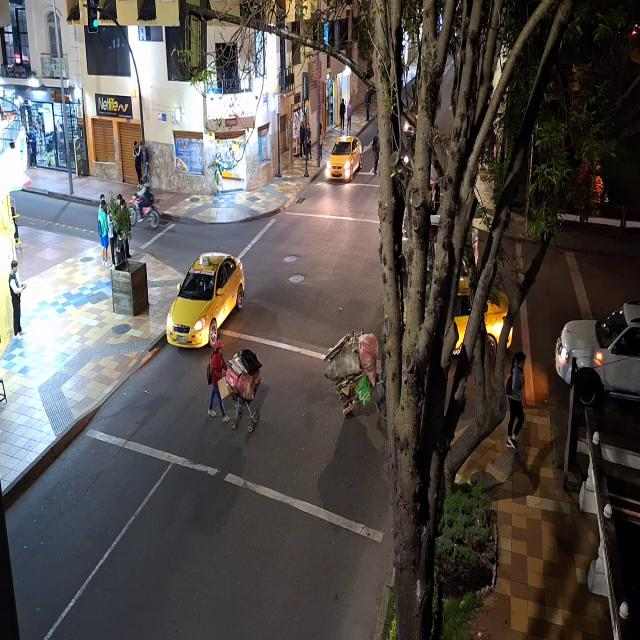MOTORCYCLE: (129, 197, 161, 230)
SED: (169, 254, 232, 346), (329, 137, 358, 180)
